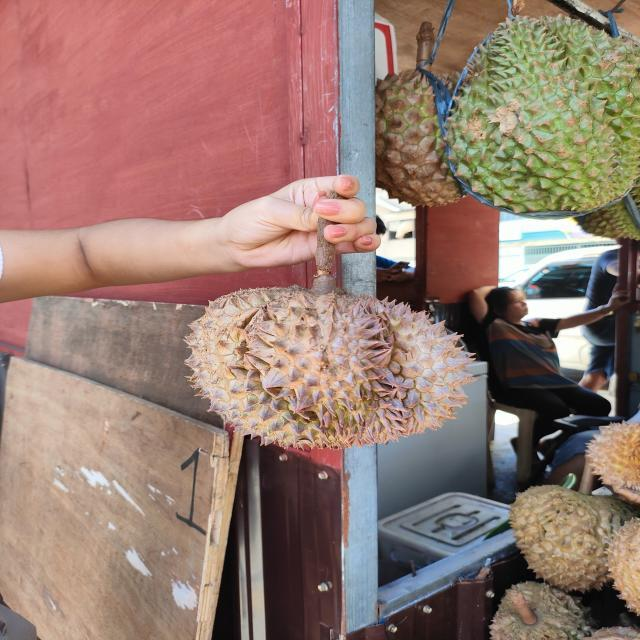mature: (184, 285, 478, 451)
